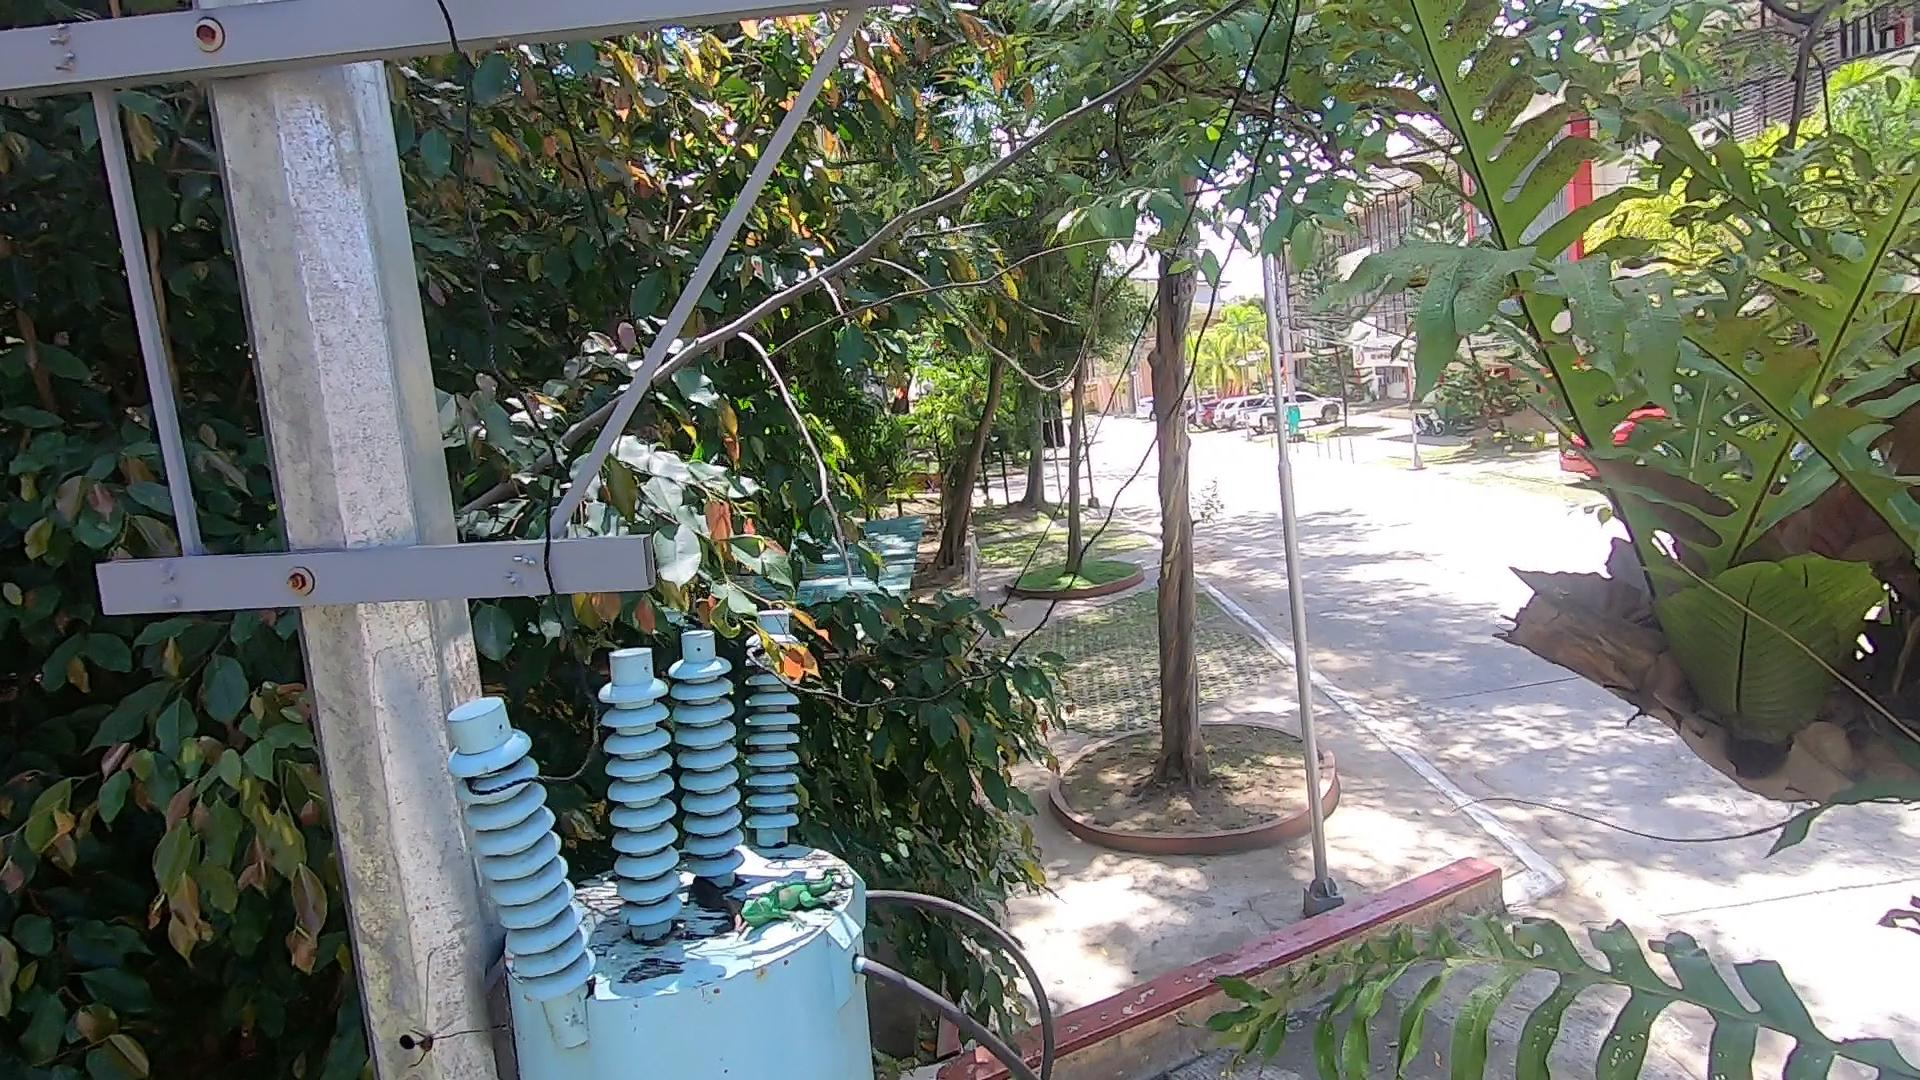leaf: (725, 887, 750, 939), (686, 873, 717, 909)
tree branch: (459, 5, 1400, 520)
